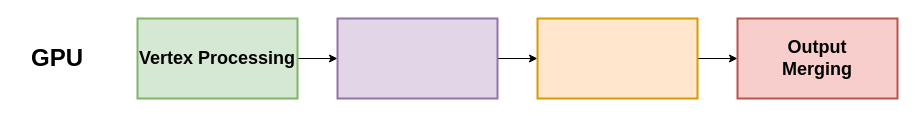
The diagram is 915 pixels wide and 116 high, and some of its shapes have lost their labels. The box of each missing label's shape, as (x1, y1, x2, y2) in pixels:
Fragment Processing: (536, 17, 698, 99)
Rasterization: (336, 17, 498, 99)
